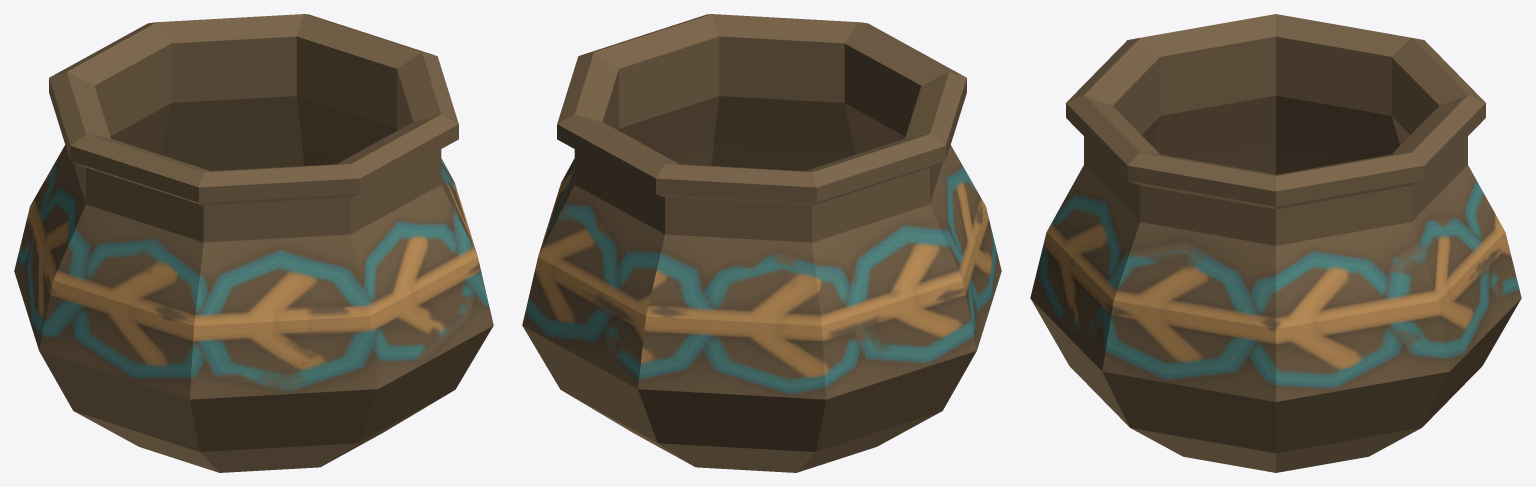
Rendered from SM_Prop_Bowl_01.fbx.
The picture shows the model from 3 angles, left to right: view 1: azimuth 30°, elevation 25°; view 2: azimuth 150°, elevation 25°; view 3: azimuth 270°, elevation 25°; orthographic projection.
Parts seen in each view (by area): view 1: SM_Prop_Bowl_01; view 2: SM_Prop_Bowl_01; view 3: SM_Prop_Bowl_01.
Part boxes in pixels (bbox=[...]): SM_Prop_Bowl_01: bbox=[14, 14, 493, 472]; SM_Prop_Bowl_01: bbox=[522, 14, 1001, 472]; SM_Prop_Bowl_01: bbox=[1030, 14, 1521, 472].
Size of the model in its own units: 37.89 by 27.43 by 37.89.
